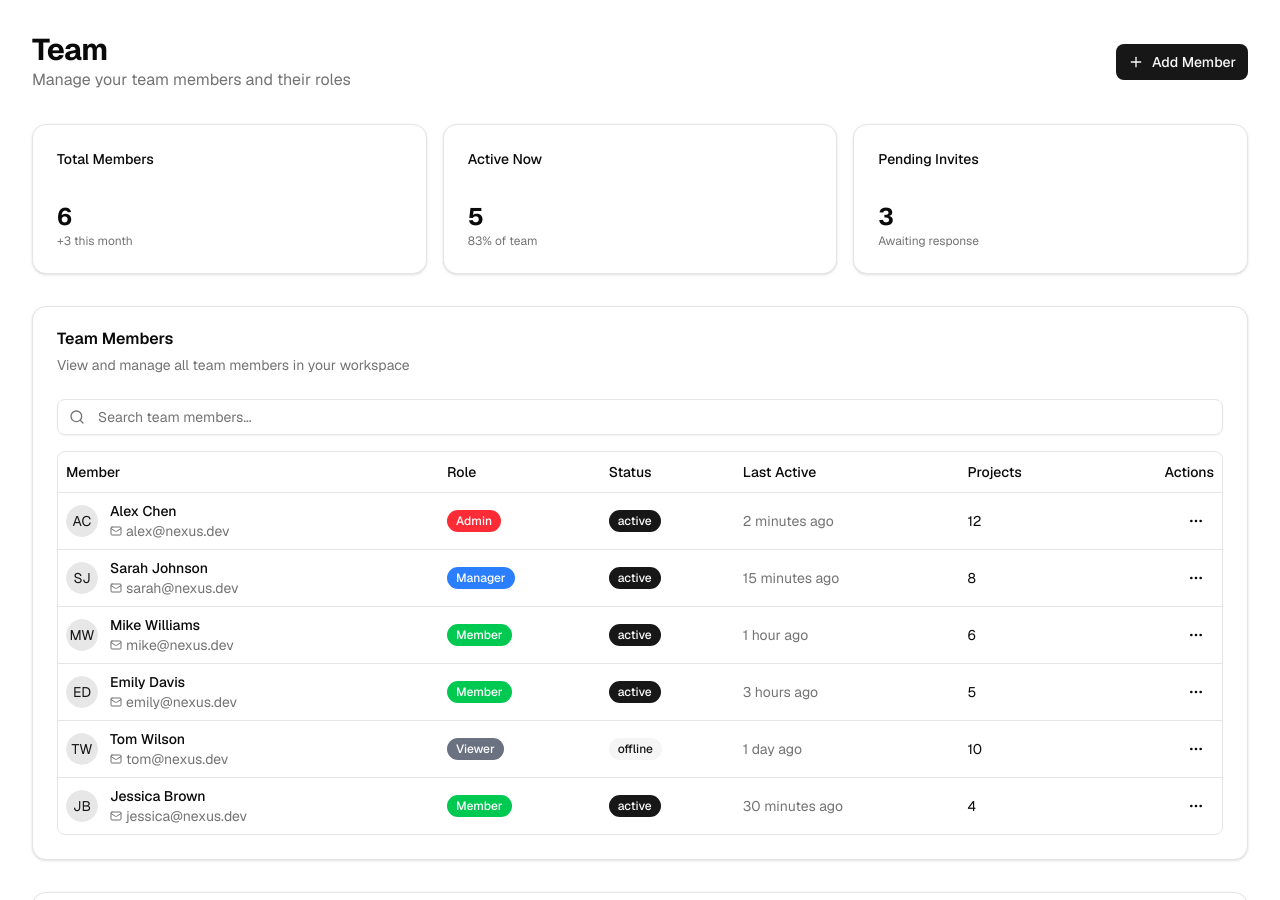
Test: TeamPage › closes dialog when clicking Cancel
# Open dialog
Click the button "Add Member".
click(1182, 62)  # box [1116, 44, 1248, 80]
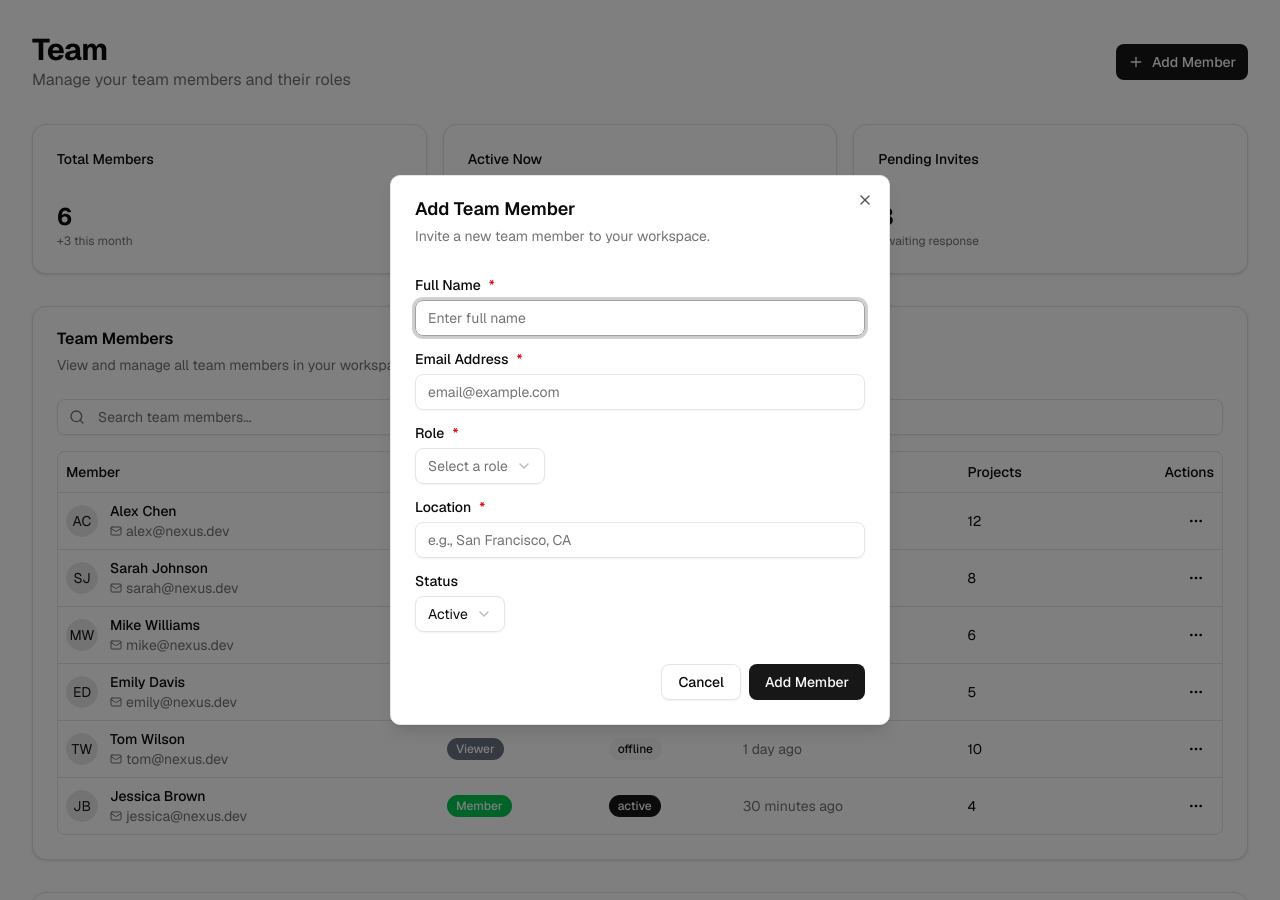
Result: the heading "Add Team Member" is shown at [415, 197, 576, 220]
# Click Cancel
Click the button "Cancel".
click(701, 682)  # box [661, 664, 741, 700]
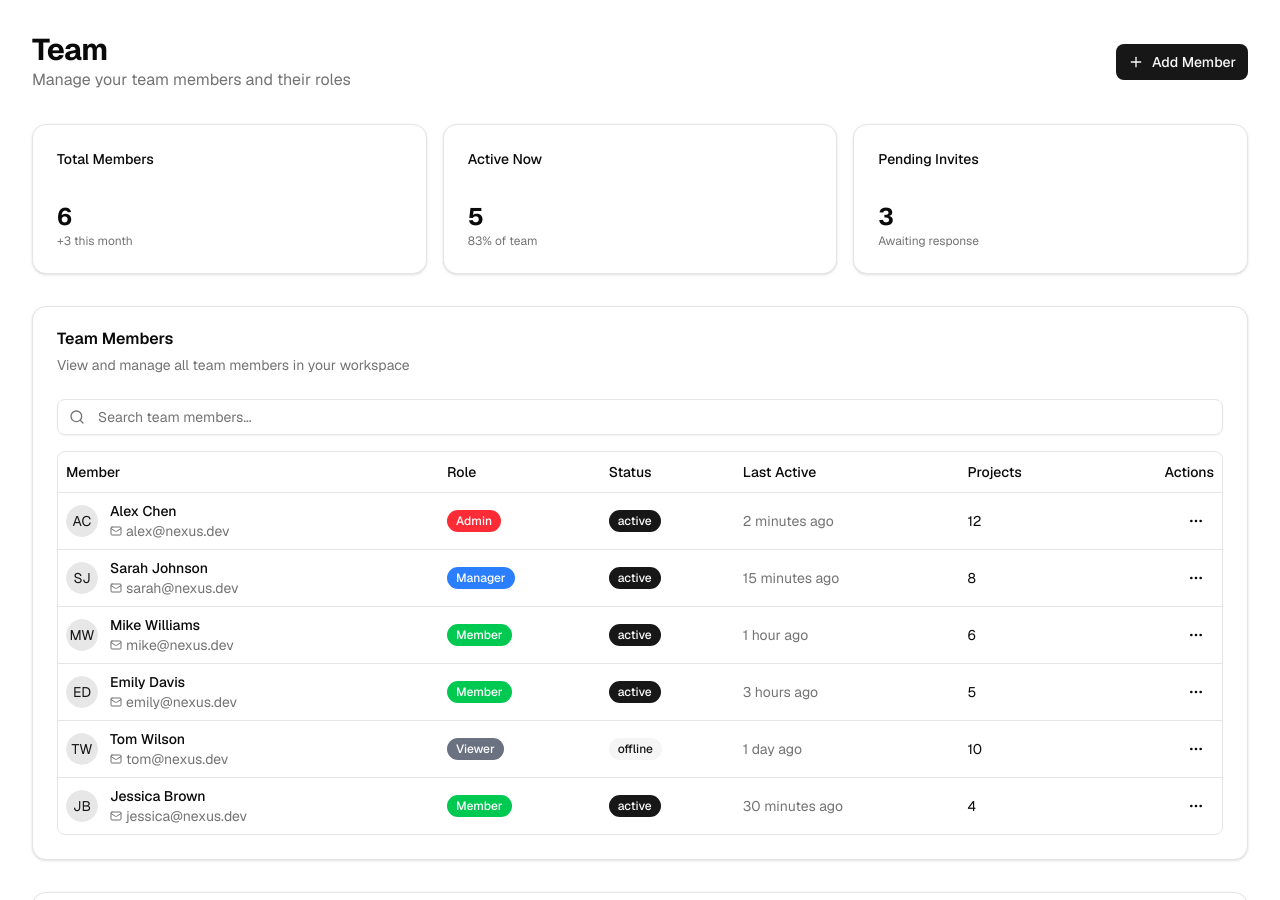
Result: the heading "Add Team Member" is gone
